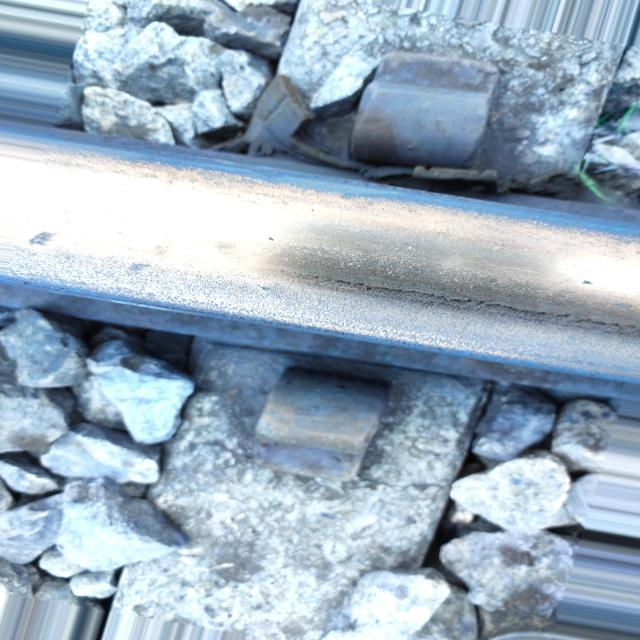Missing Fastener: (207, 356, 435, 513), (335, 20, 535, 180)
